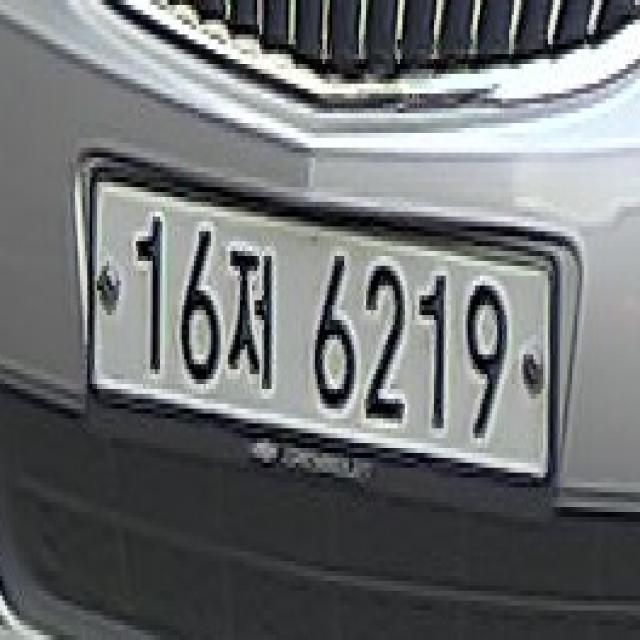1: (128, 202, 170, 384), (414, 266, 451, 443)
2: (361, 251, 412, 433)
6: (308, 242, 361, 424), (177, 216, 223, 394)
9: (458, 271, 512, 453)
jeo: (220, 226, 278, 408)
license_plate: (70, 148, 577, 517)
